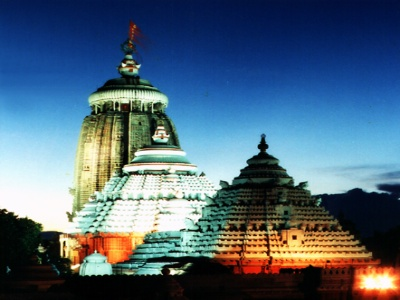amalaka: (82, 78, 178, 115)
